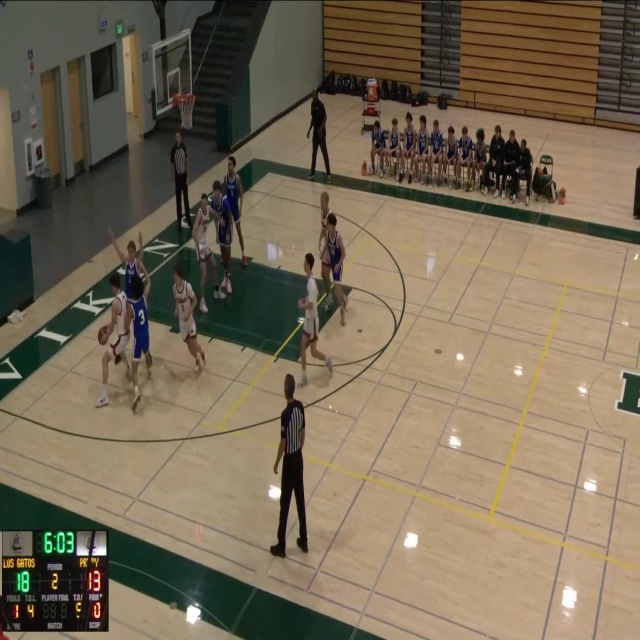Basketball: (98, 326, 109, 344)
